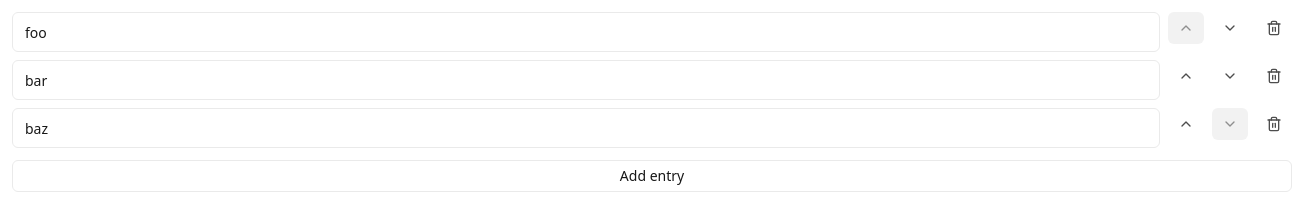
Test: StringListControl › removes entries when remove button is clicked
Remove the middle entry
Click the button named "remove entry". click: click(1274, 76)
box: [1256,60,1292,92]
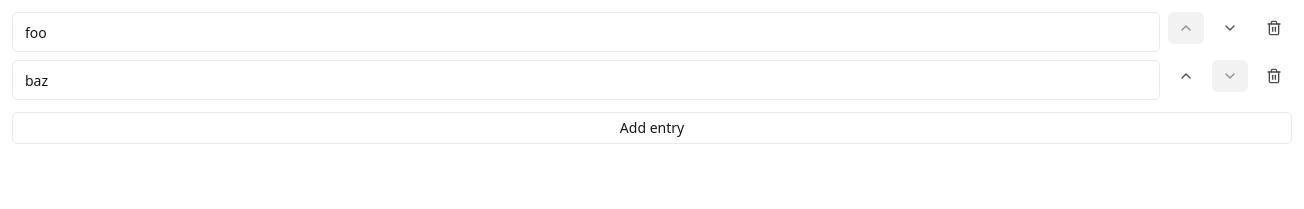
Check: the field named "Entry 1" holds "foo", box [12,12,1160,52]
Check: the field named "Entry 2" holds "baz", box [12,60,1160,100]
